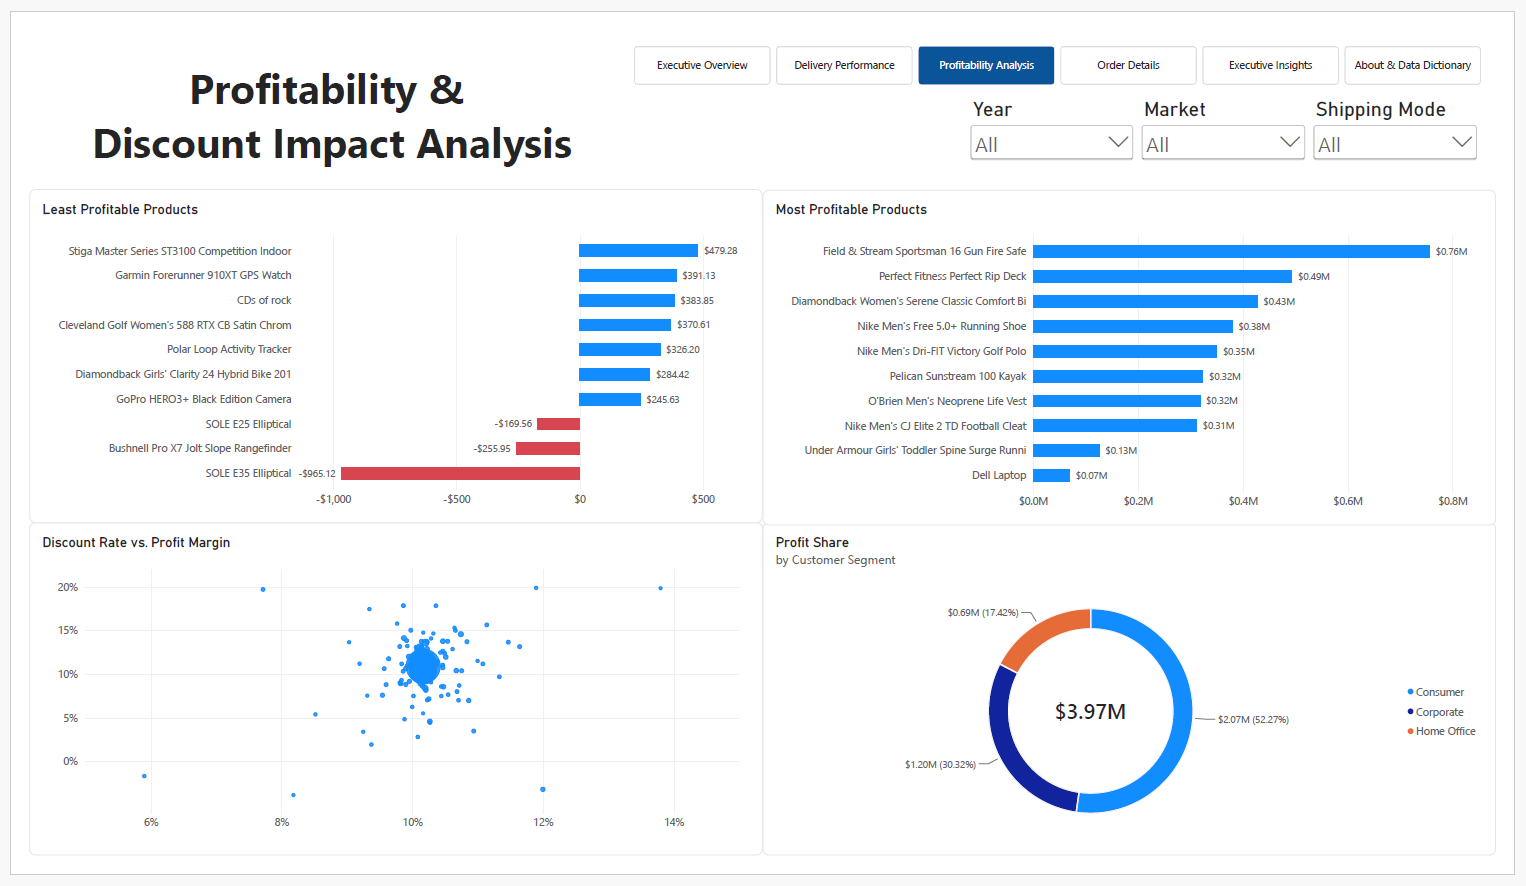

Layout of this report page (visuals, bound fields, positions):
{"tool":"powerbi","page":{"name":"Profitability Analysis","canvas":[1920,1080],"ordinal":2},"visuals":[{"type":"textbox","box":[0,0,791.7,202.7],"z":0},{"type":"scatterChart","title":"Discount Rate vs. Profit Margin","fields":{"Category":["Dim_Products.Product Name"],"Size":["_Measures.Total Sales"],"X":["Fact_Orders.Order Item Discount Rate"],"Y":["_Measures.Profit Margin %"]},"box":[0,644.2,960,435.8],"z":1000},{"type":"clusteredBarChart","title":"Least Profitable Products","fields":{"Category":["Dim_Products.Product Name"],"Y":["_Measures.Total Profit"]},"box":[0,208.3,960,437],"z":2000},{"type":"donutChart","title":"Profit Share","fields":{"Category":["Dim_Customers.Customer Segment"],"Y":["_Measures.Total Profit"]},"box":[960,644.2,960,435.8],"z":3000},{"type":"clusteredBarChart","title":"Most Profitable Products","fields":{"Category":["Dim_Products.Product Name"],"Y":["_Measures.Total Profit"]},"box":[960,209,960,438.7],"z":4000},{"type":"slicer","fields":{"Values":["Dim_Date.Year"]},"box":[1226.7,87,223.7,100],"z":5000},{"type":"slicer","fields":{"Values":["Dim_Geography.Market"]},"box":[1451.4,87,223.7,100],"z":6000},{"type":"slicer","fields":{"Values":["Dim_ShippingMode.Shipping Mode"]},"box":[1676,87,223.7,100],"z":7000},{"type":"pageNavigator","box":[791.7,21,1109.2,49.7],"z":8000}]}

Visuals, with their boxes on the page's 1920x1080 design canvas (x1, y1, x2, y2). These are canvas units, not pixel positions in the 1526x886 screenshot, which may show the page scaled, cropped or inside an application window:
textbox: box=[0, 0, 792, 203]
"Discount Rate vs. Profit Margin" scatterChart: box=[0, 644, 960, 1080]
"Least Profitable Products" clusteredBarChart: box=[0, 208, 960, 645]
"Profit Share" donutChart: box=[960, 644, 1920, 1080]
"Most Profitable Products" clusteredBarChart: box=[960, 209, 1920, 648]
slicer - Dim_Date.Year: box=[1227, 87, 1450, 187]
slicer - Dim_Geography.Market: box=[1451, 87, 1675, 187]
slicer - Dim_ShippingMode.Shipping Mode: box=[1676, 87, 1900, 187]
pageNavigator: box=[792, 21, 1901, 71]
